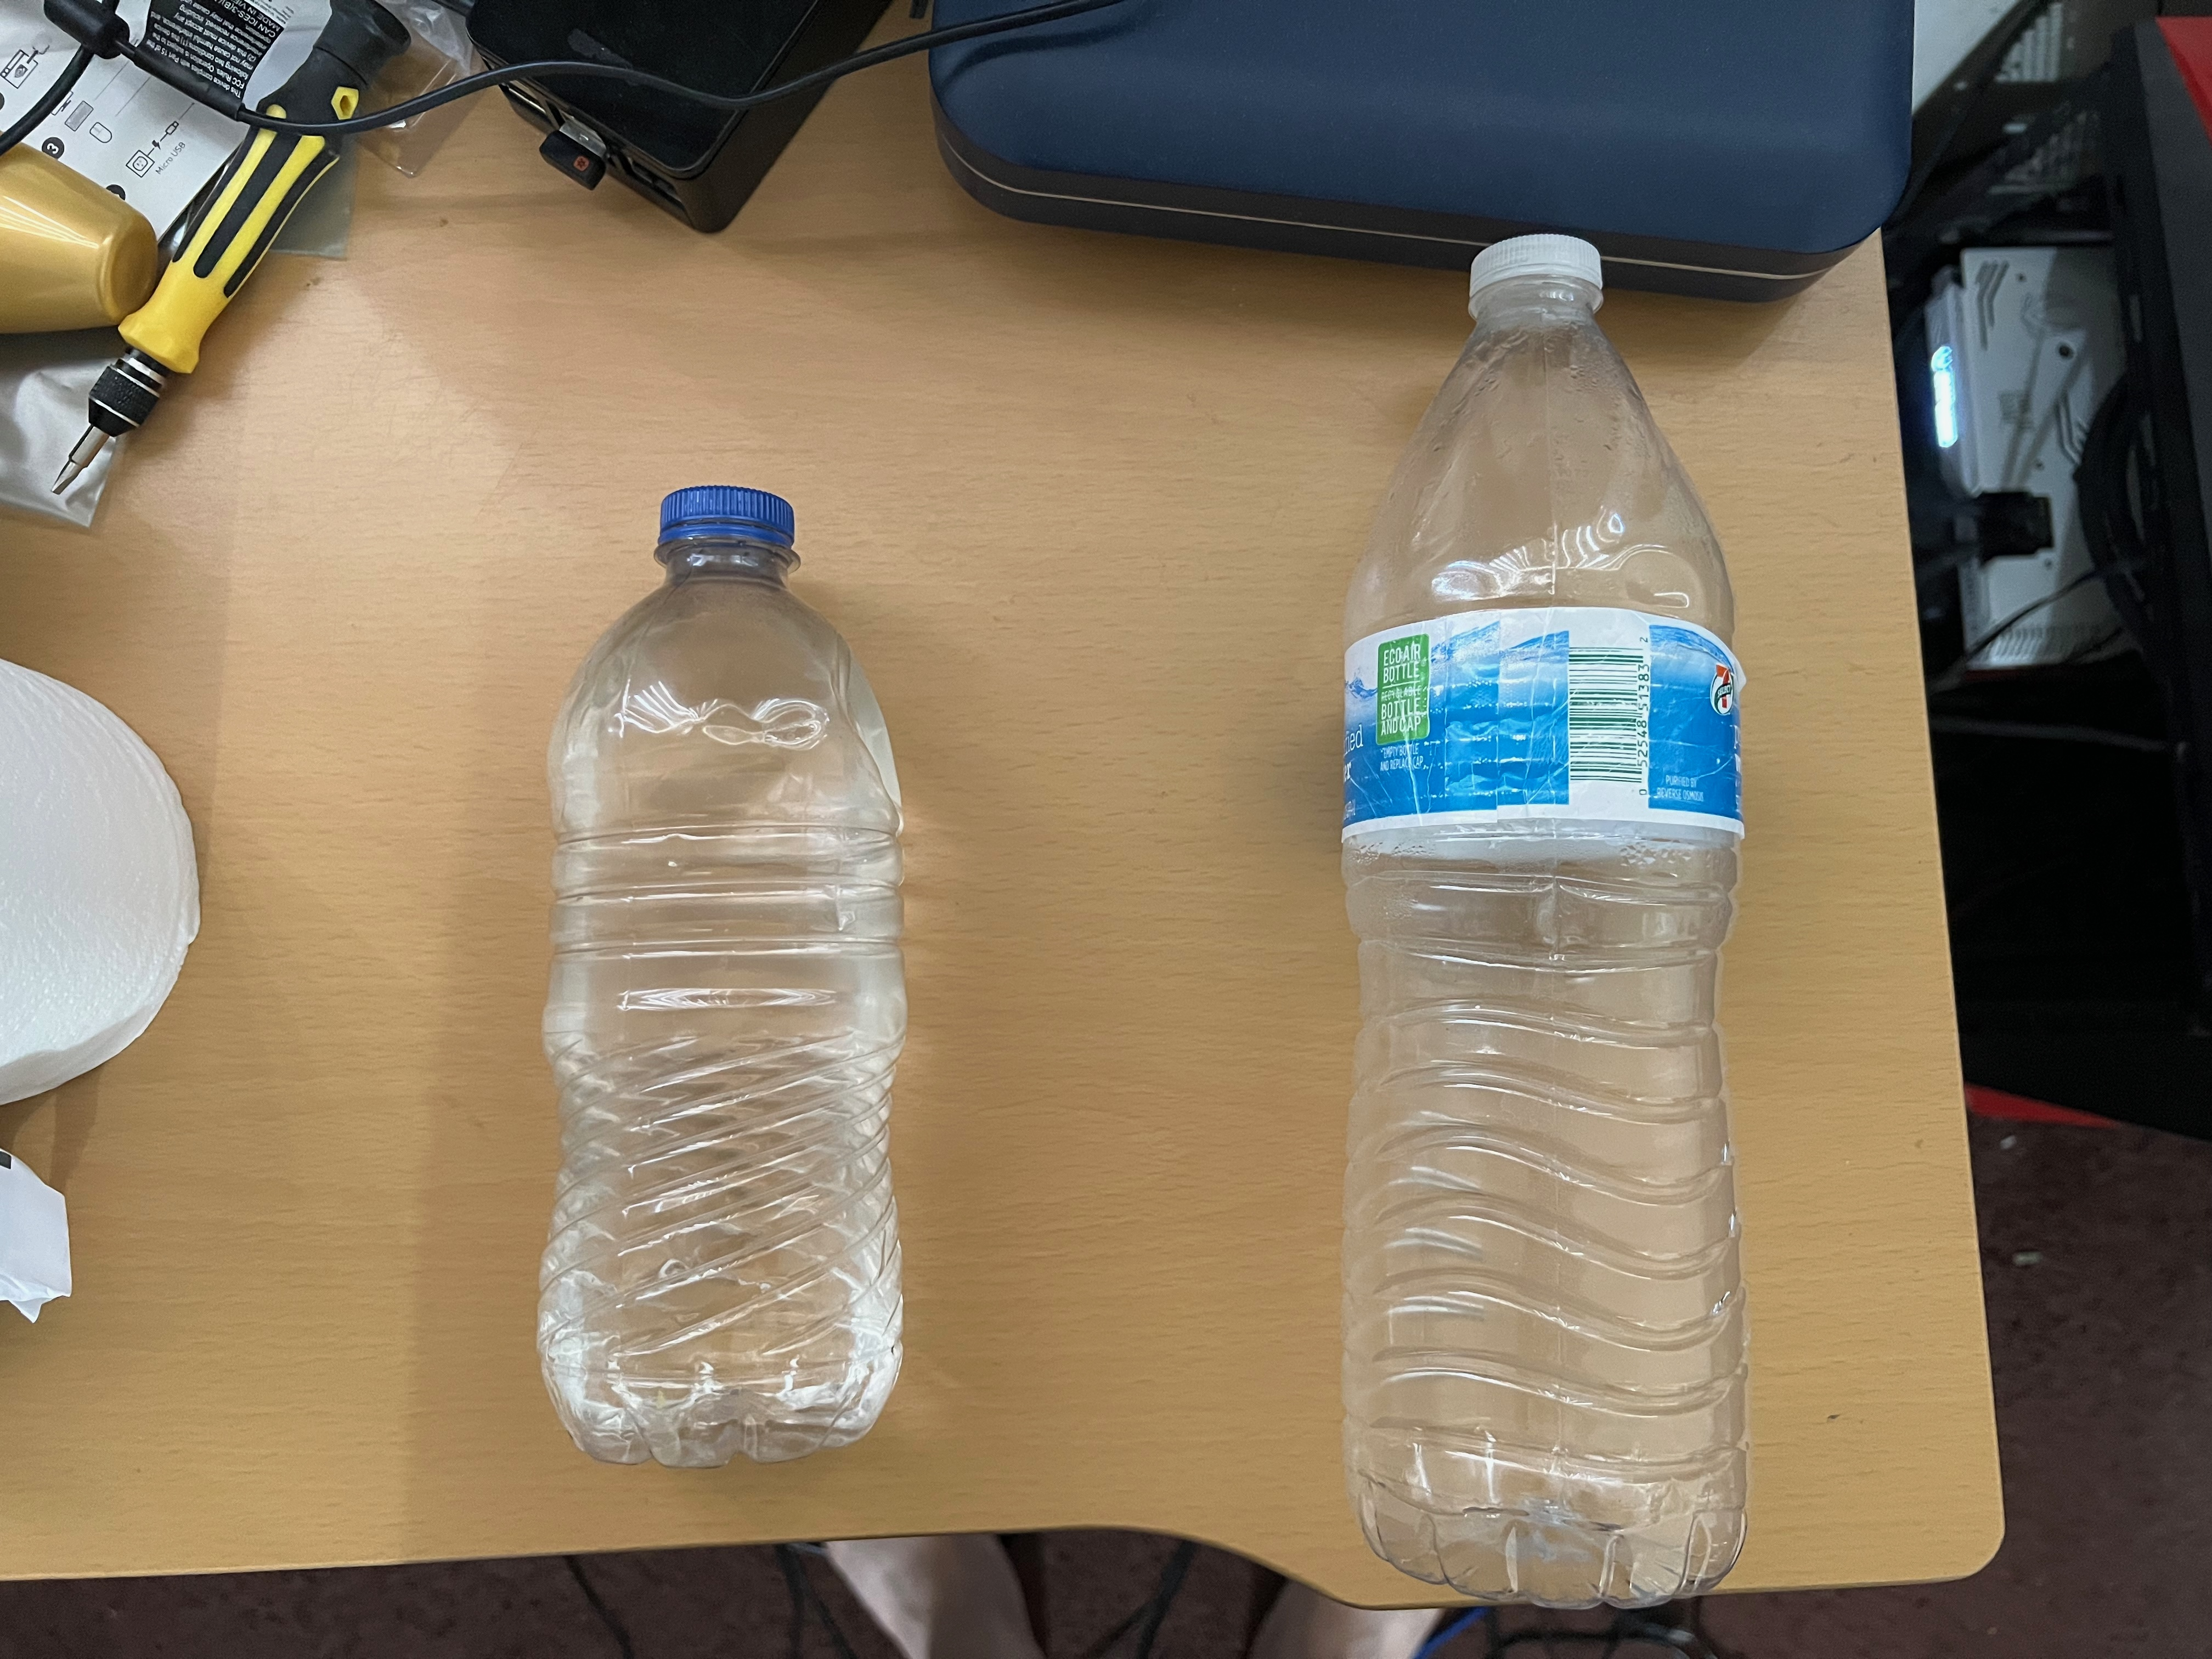trash bottle: (1336, 228, 1750, 1608), (536, 479, 918, 1490)
